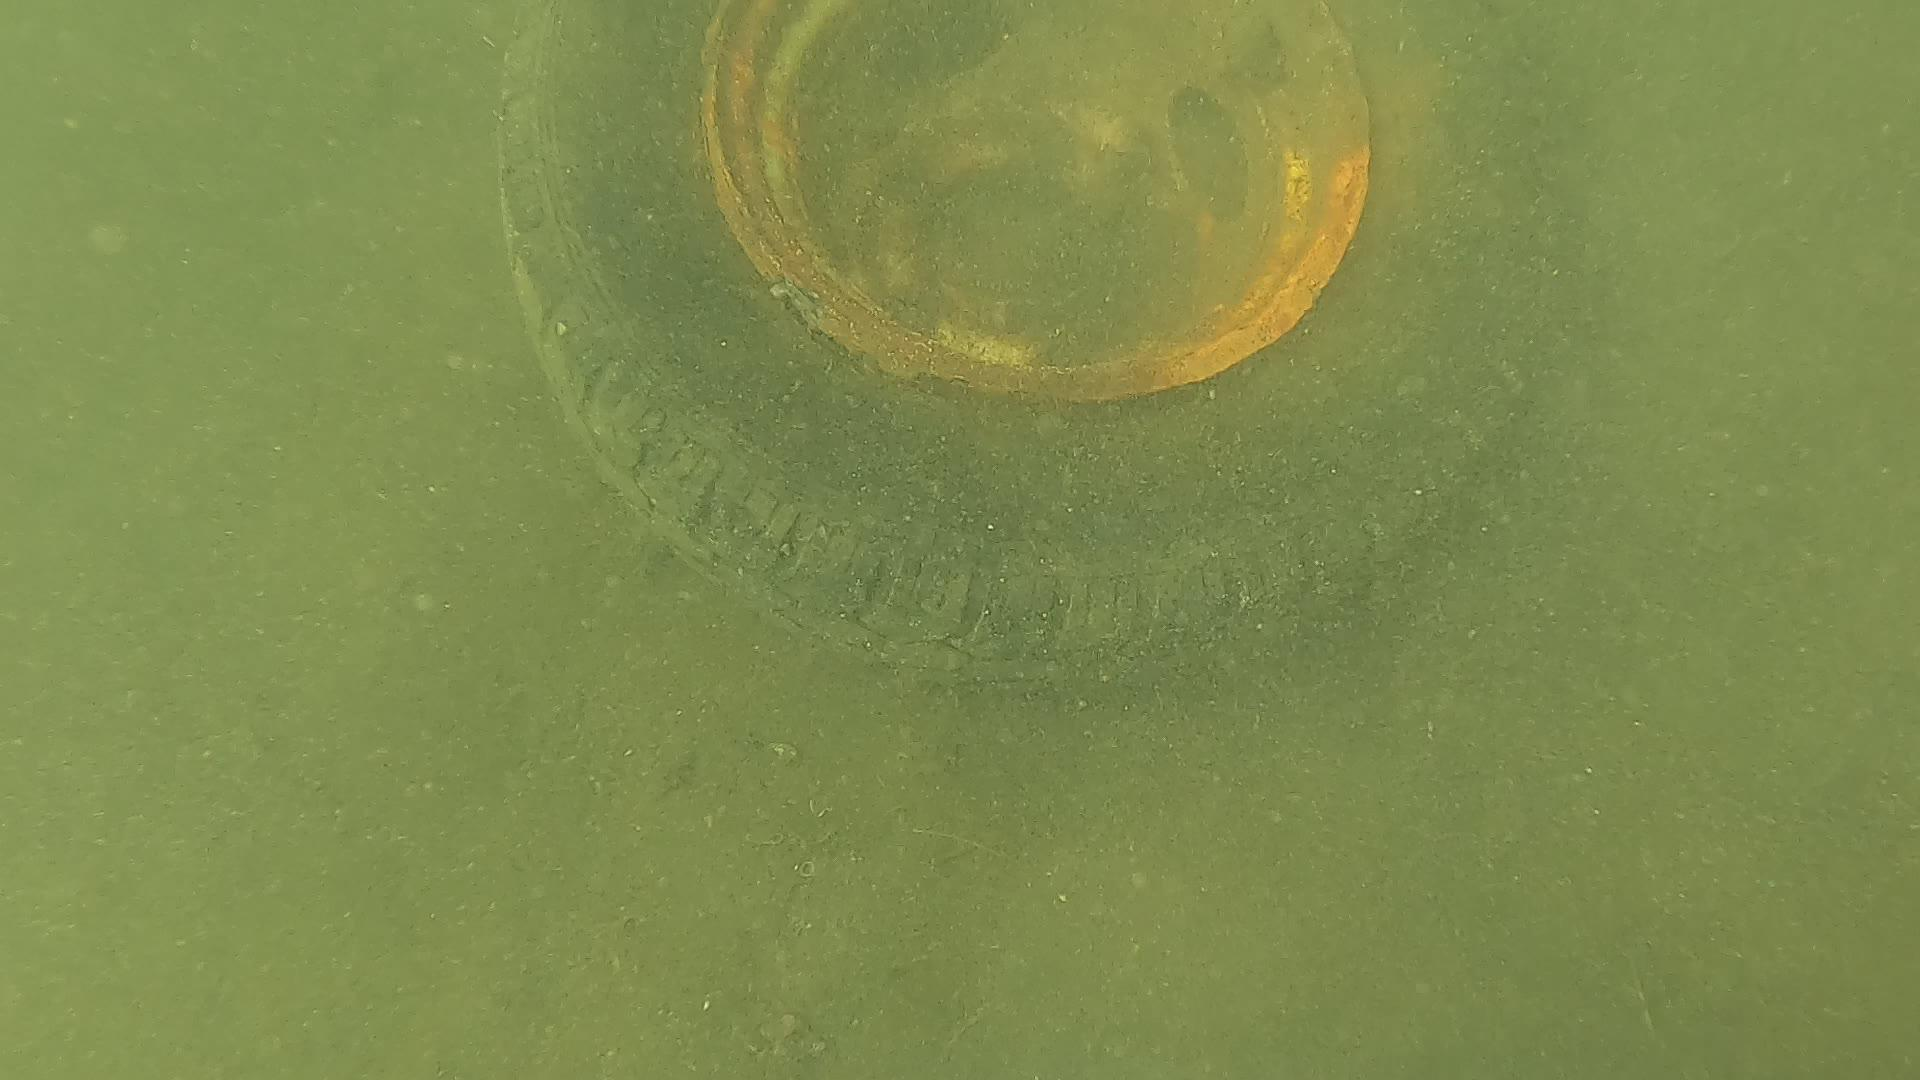tire: (492, 1, 1563, 683)
